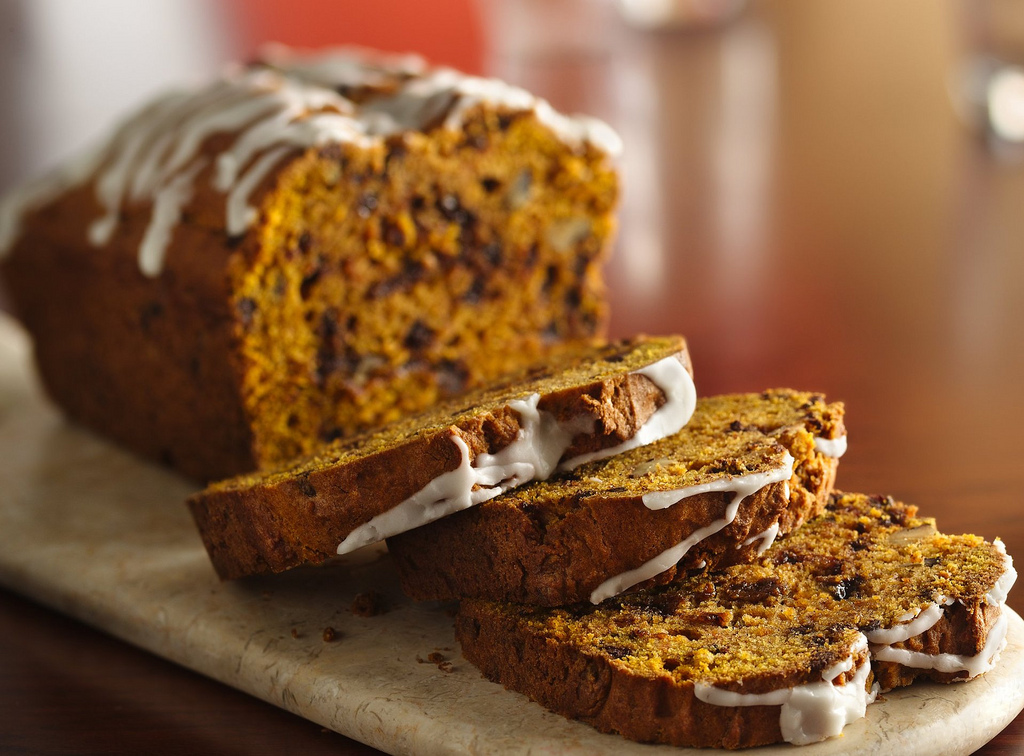slice of bread: (445, 488, 1023, 737), (215, 117, 642, 418), (183, 330, 691, 562), (410, 384, 855, 613)
